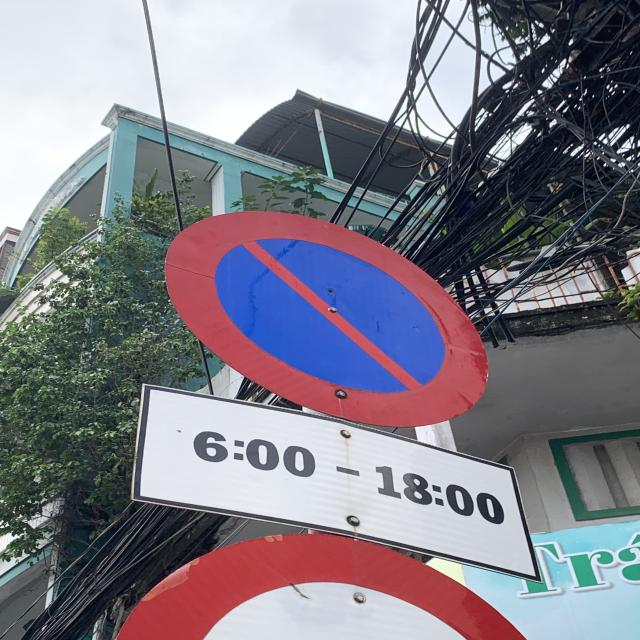Cam_Dau_Xe: (165, 208, 490, 429)
